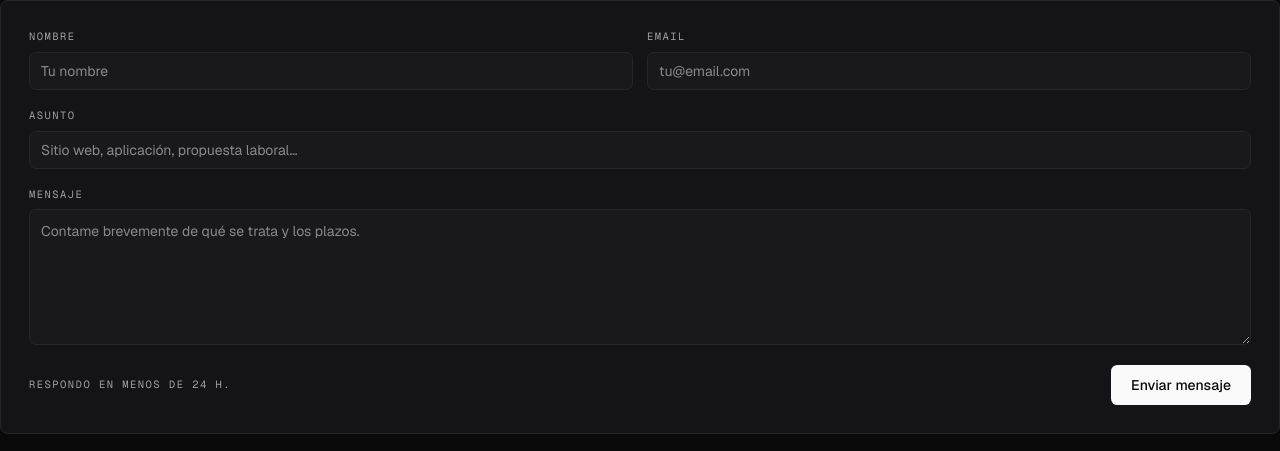
Test: ContactForm › envía los datos del formulario y muestra el mensaje de éxito
Type "Ada Lovelace" into the field labelled "Nombre" at coordinates (331, 71), box [29,52,633,90]
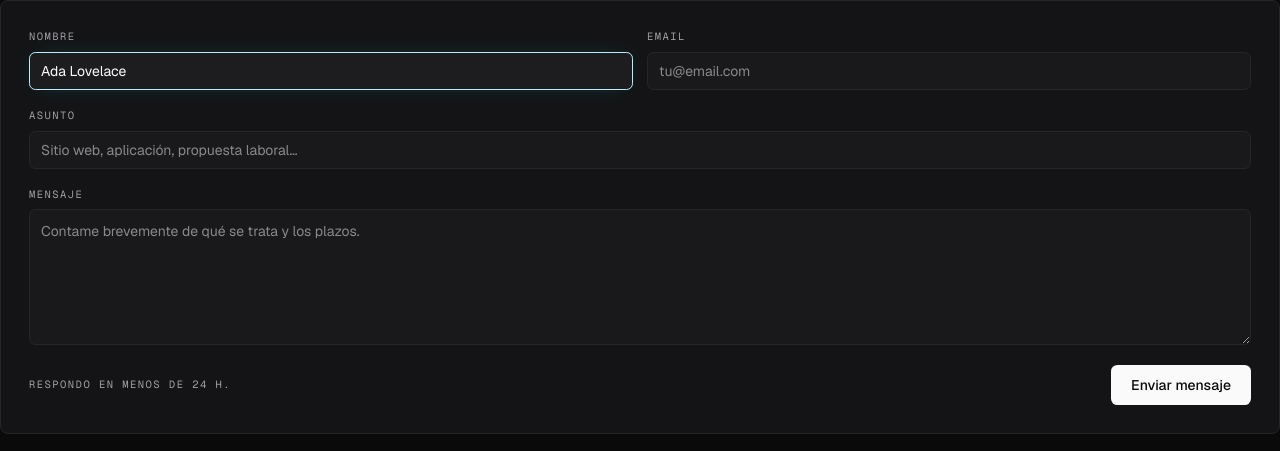
Type "ada@example.com" into the field labelled "Email" at coordinates (949, 71), box [647,52,1251,90]
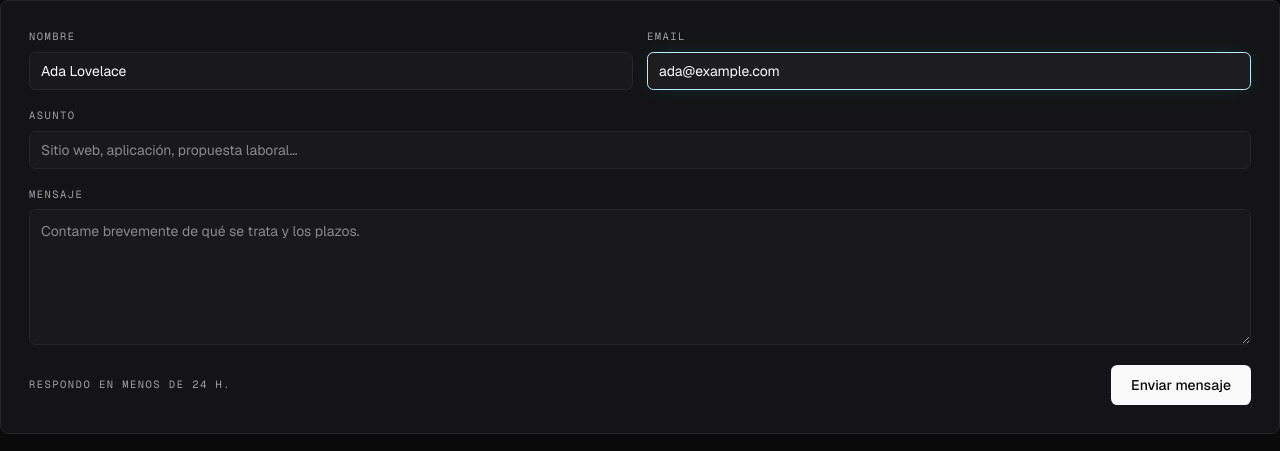
Type "Quiero charlar sobre un proyecto." into the text box labelled "Mensaje" at coordinates (640, 277), box [29,209,1251,345]
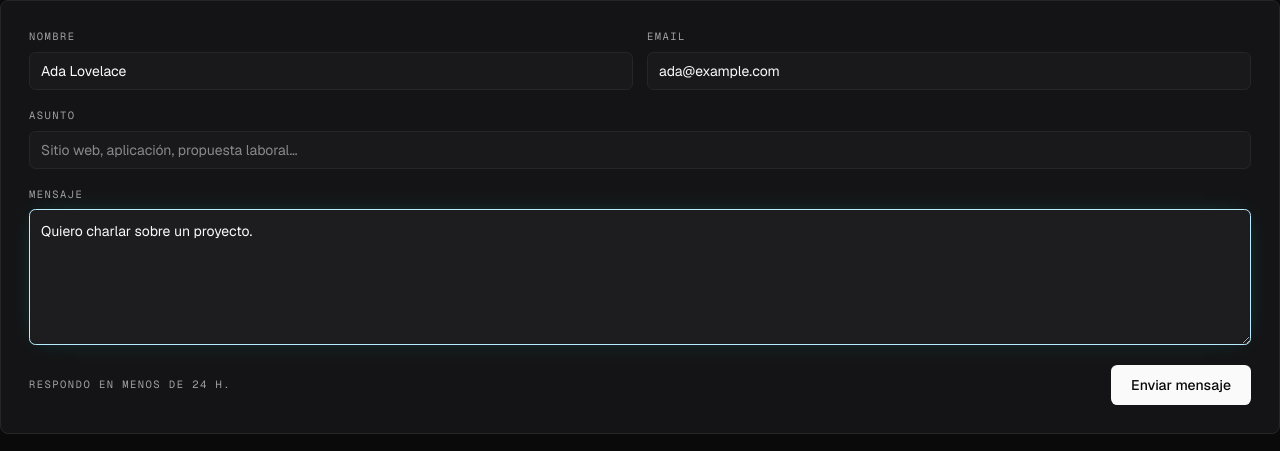
Click the button "Enviar mensaje" at coordinates (1181, 385), box [1111,365,1251,405]
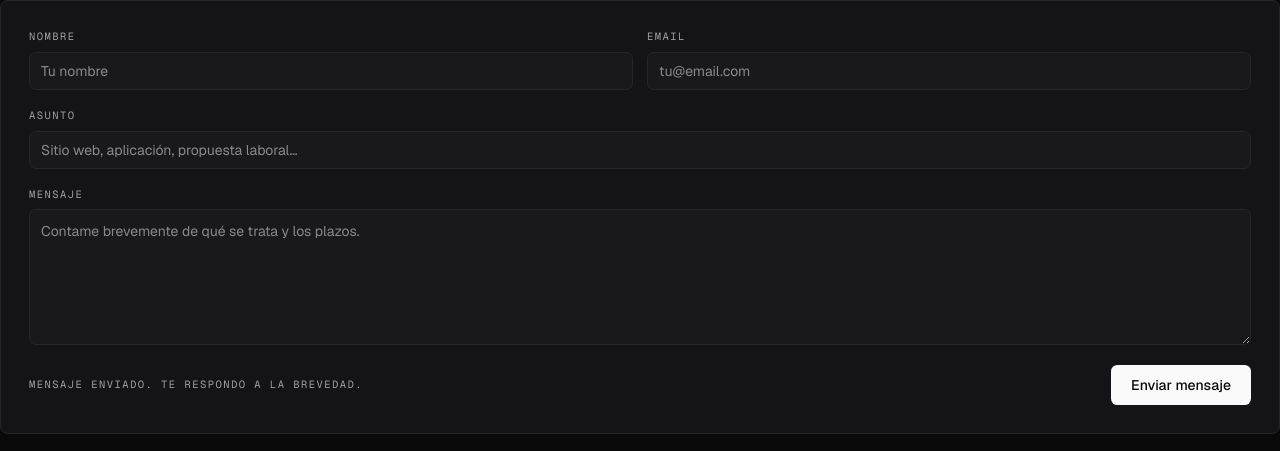
Check: the text "Mensaje enviado. Te respondo a la brevedad." is shown, box [29,377,363,393]
Check: the field labelled "Nombre" is empty, box [29,52,633,90]
